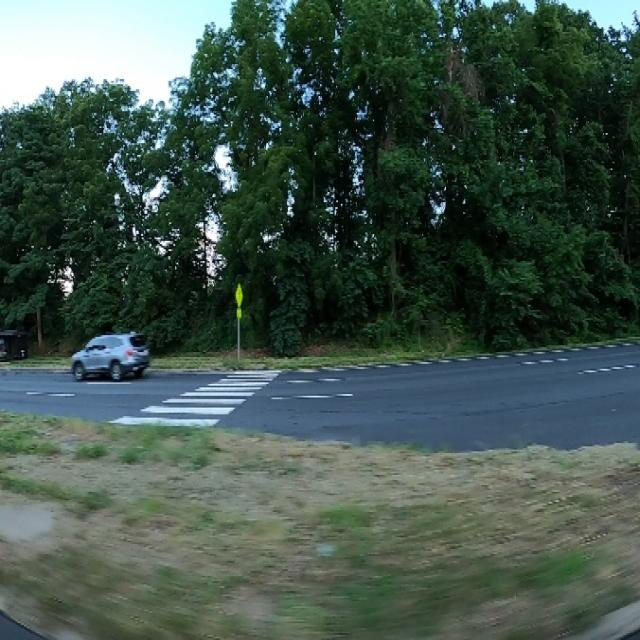cars: (72, 330, 152, 384)
